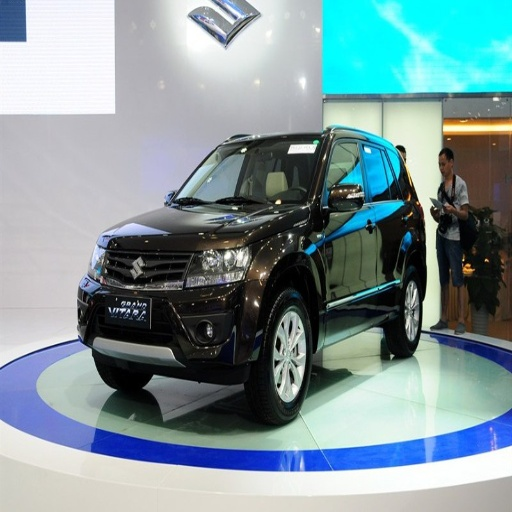back_glass: (446, 387, 503, 419)
front_bumper: (76, 238, 264, 367)
front_glass: (167, 139, 318, 205)
front_left_door: (321, 134, 378, 305)
